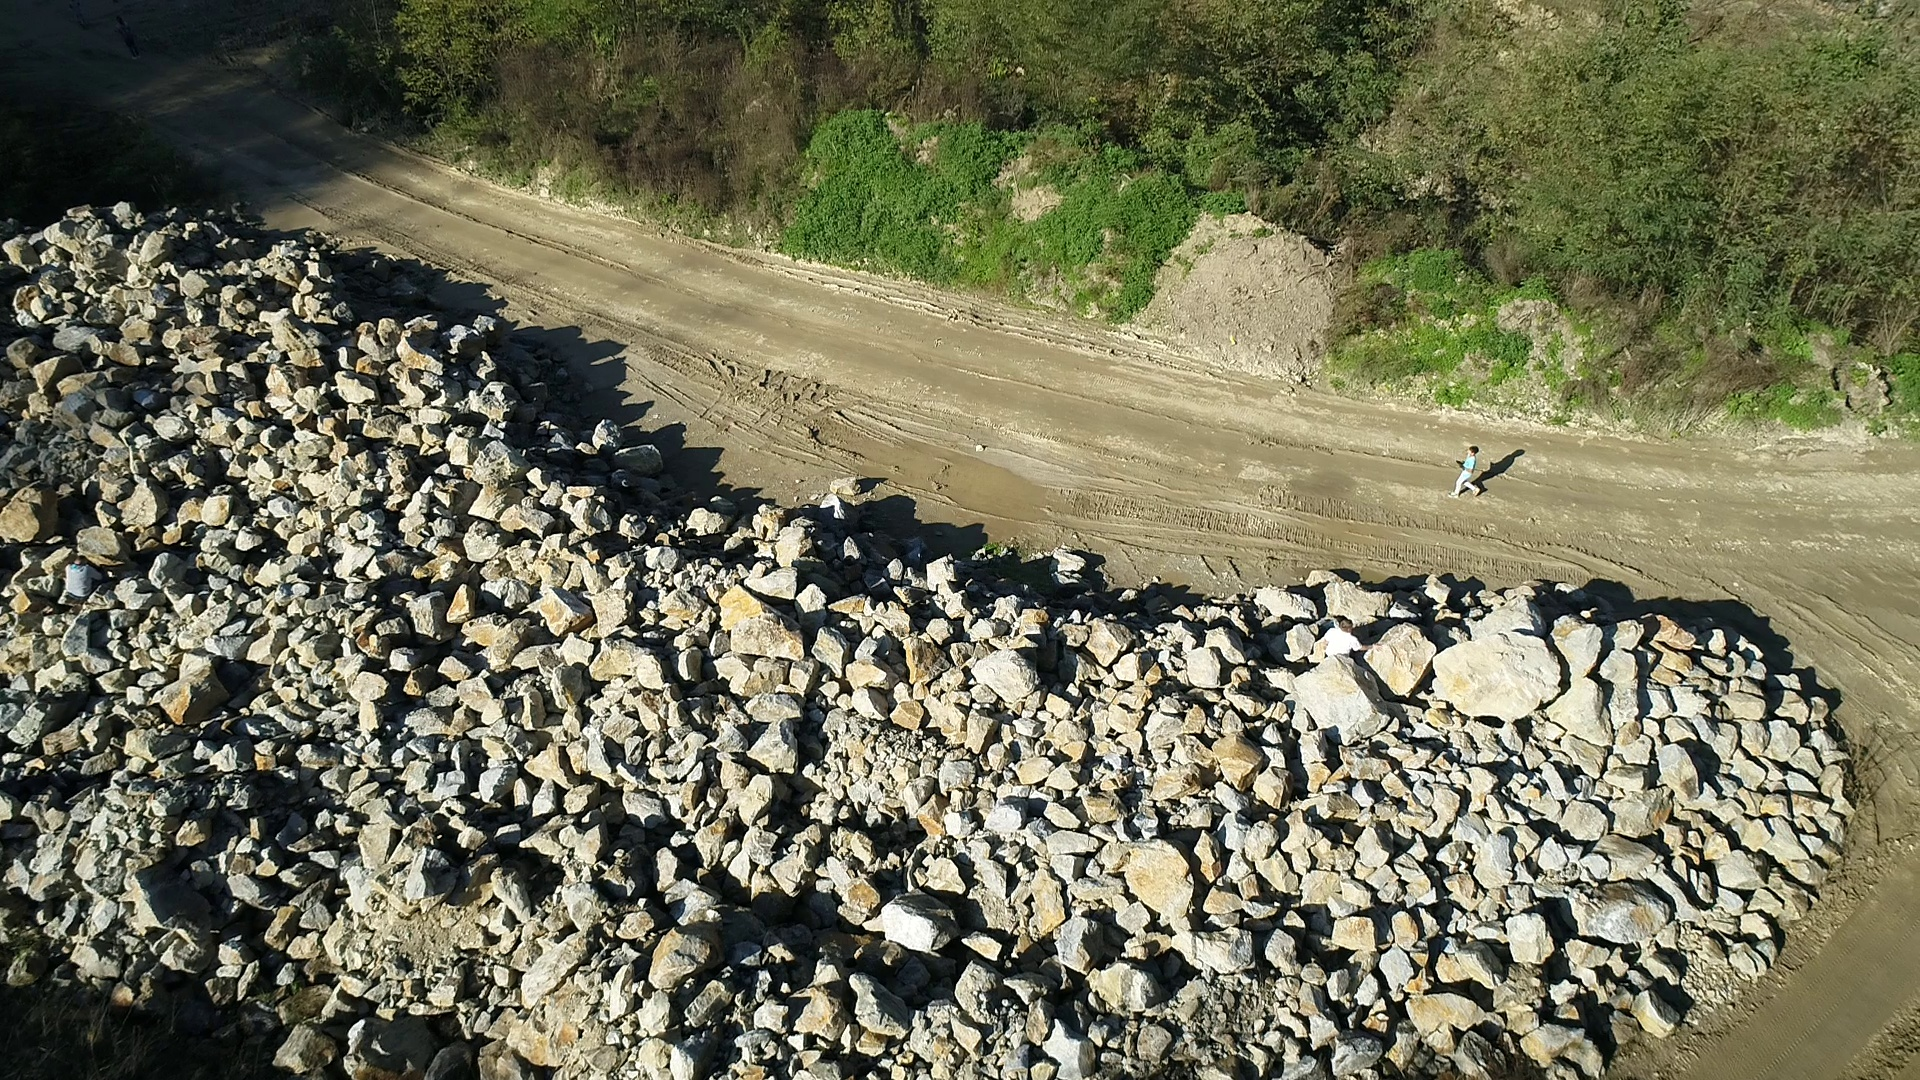person: (1323, 618, 1385, 669), (63, 555, 102, 601), (1448, 445, 1480, 499)
